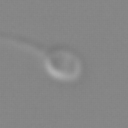normal: (1, 24, 49, 57)
